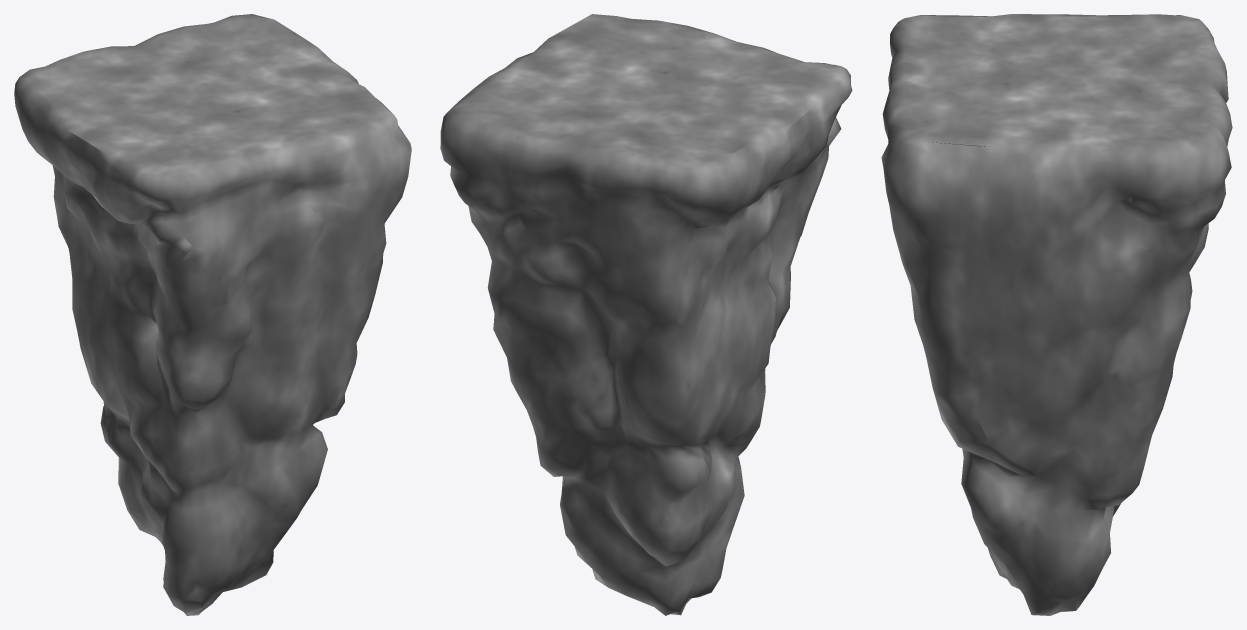
Rendered from Main Rock 5.fbx.
3 views of the same model, side by side, from view 1: azimuth 30°, elevation 25°; view 2: azimuth 150°, elevation 25°; view 3: azimuth 270°, elevation 25° (orthographic). The views are drawn at different scales.
Visible parts, largest first — view 1: Main rock 5; view 2: Main rock 5; view 3: Main rock 5.
Part boxes in pixels (x1,y1,x2,y2): Main rock 5: (14, 14, 411, 615); Main rock 5: (440, 14, 852, 615); Main rock 5: (881, 14, 1232, 615).
Size of the model in its own units: 108 by 186 by 109.
